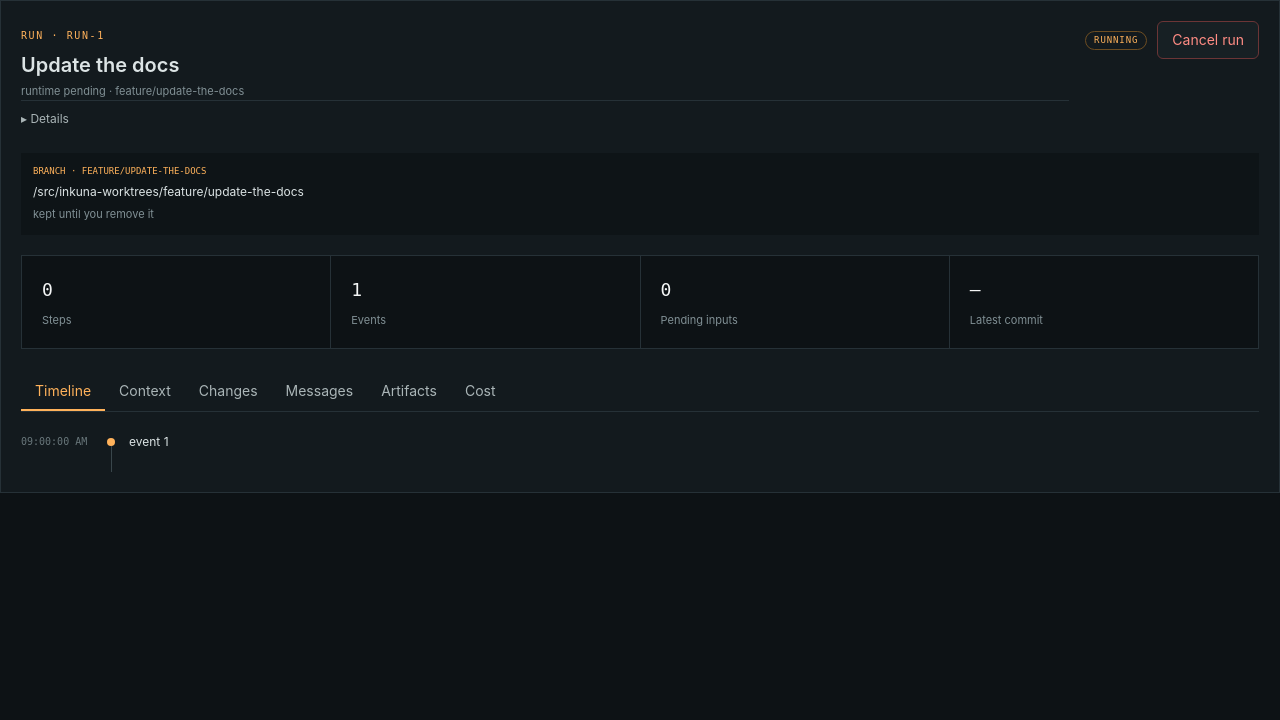
Scenario: RunDetail › shows the run's title with its task's details folded under it
This screenshot has width=1280, height=720.
Expected: the heading "Update the docs" is shown, top-left (21, 53), bottom-right (179, 77)
Click the button "▸ Details" at (50, 118), box top-left (21, 100), bottom-right (1069, 136)
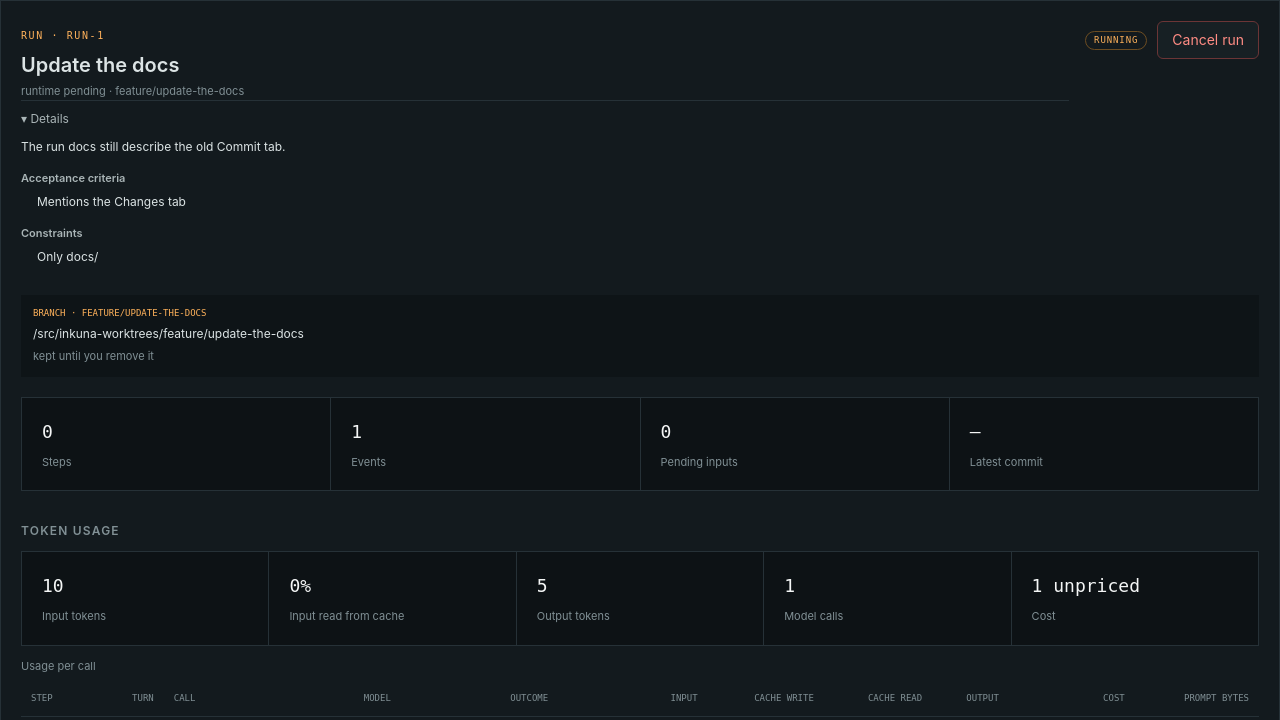
Now the text "The run docs still describe the old Commit tab." is shown, box top-left (21, 138), bottom-right (286, 154)
Now the list item "Mentions the Changes tab" is shown, box top-left (37, 194), bottom-right (186, 209)
Now the list item "Only docs/" is shown, box top-left (37, 249), bottom-right (98, 264)
